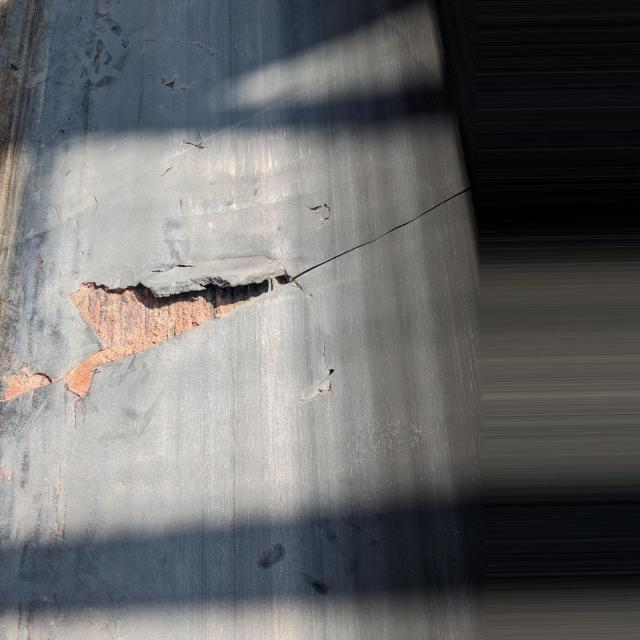Tear: (0, 254, 308, 407), (289, 179, 484, 274), (297, 363, 345, 402), (175, 37, 217, 55), (156, 74, 192, 93), (307, 201, 336, 221), (180, 138, 210, 153)
